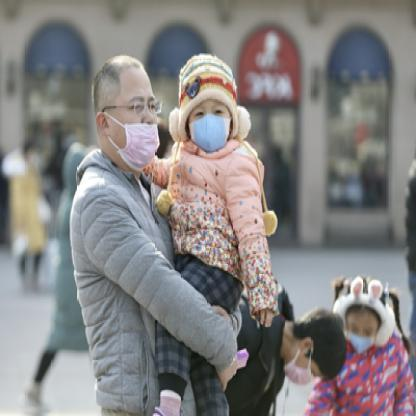mask_weared_incorrect: (108, 91, 163, 174)
with_mask: (187, 100, 233, 152), (281, 357, 323, 385), (348, 317, 378, 353)
